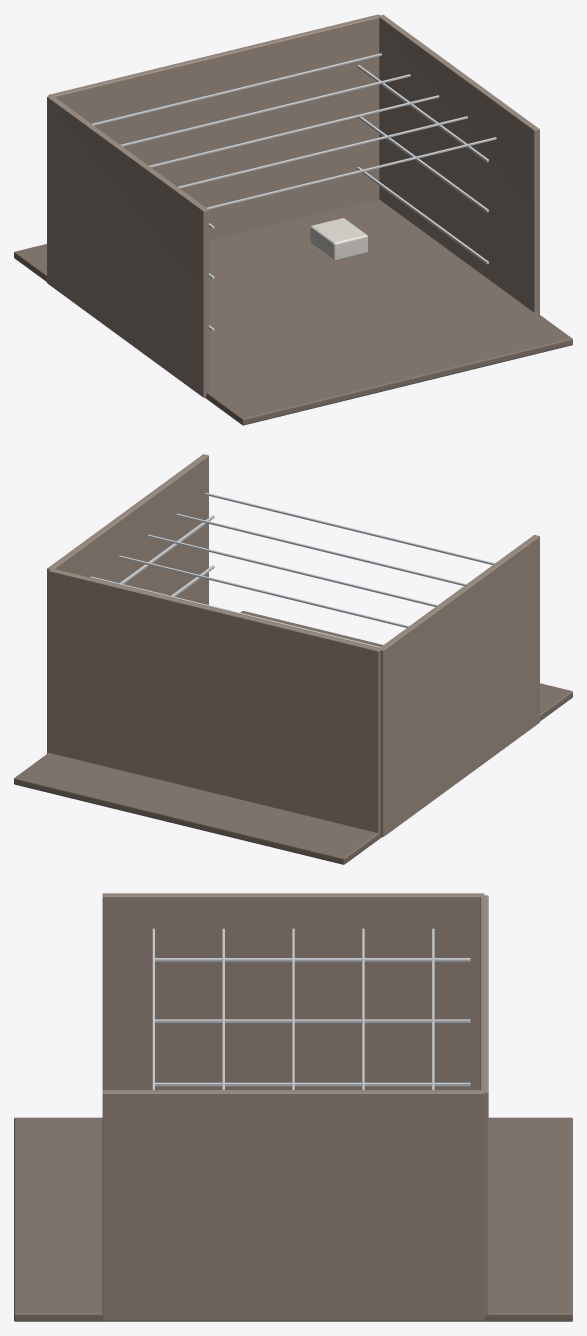
The picture shows the model from 3 angles, top to bottom: view 1: azimuth 30°, elevation 25°; view 2: azimuth 150°, elevation 25°; view 3: azimuth 270°, elevation 25°; orthographic projection. The views are drawn at different scales.
Visible parts, largest first — view 1: Room floor, Back wall, Left wall, Right wall, Shooting plinth.001, Ceiling photo truss, Ceiling photo truss.002, Ceiling photo truss.003, Ceiling photo truss.004, Ceiling photo truss.001, Industrial strut.003, Industrial strut.004 (+1 smaller); view 2: Back wall, Left wall, Room floor, Right wall, Ceiling photo truss.002, Ceiling photo truss.001, Ceiling photo truss, Ceiling photo truss.003, Ceiling photo truss.004; view 3: Right wall, Left wall, Room floor, Back wall, Industrial strut, Industrial strut.001, Industrial strut.002.
Part boxes in pixels (x1,y1,x2,y2): Room floor: (14, 199, 572, 425); Back wall: (48, 14, 380, 240); Left wall: (47, 95, 208, 397); Right wall: (379, 14, 539, 314); Shooting plinth.001: (310, 218, 367, 260); Ceiling photo truss: (206, 137, 496, 209); Ceiling photo truss.002: (149, 95, 439, 167); Ceiling photo truss.003: (120, 74, 410, 146); Ceiling photo truss.004: (92, 53, 381, 125); Ceiling photo truss.001: (178, 116, 467, 188); Industrial strut.003: (357, 167, 488, 264); Industrial strut.004: (357, 116, 488, 212); Back wall: (48, 568, 380, 833); Left wall: (379, 535, 539, 836); Room floor: (14, 611, 572, 864); Right wall: (47, 454, 208, 753); Ceiling photo truss.002: (147, 534, 437, 606); Ceiling photo truss.001: (176, 513, 466, 585); Ceiling photo truss: (205, 492, 494, 564); Ceiling photo truss.003: (119, 555, 408, 627); Ceiling photo truss.004: (90, 576, 380, 647); Right wall: (102, 1090, 484, 1320); Left wall: (102, 893, 484, 1089); Room floor: (14, 1117, 572, 1321); Back wall: (480, 895, 488, 1318); Industrial strut: (155, 1082, 470, 1086); Industrial strut.001: (155, 1019, 470, 1023); Industrial strut.002: (155, 958, 470, 961).
Bounding box in the file's own units: 10.18 × 5.47 × 12.
